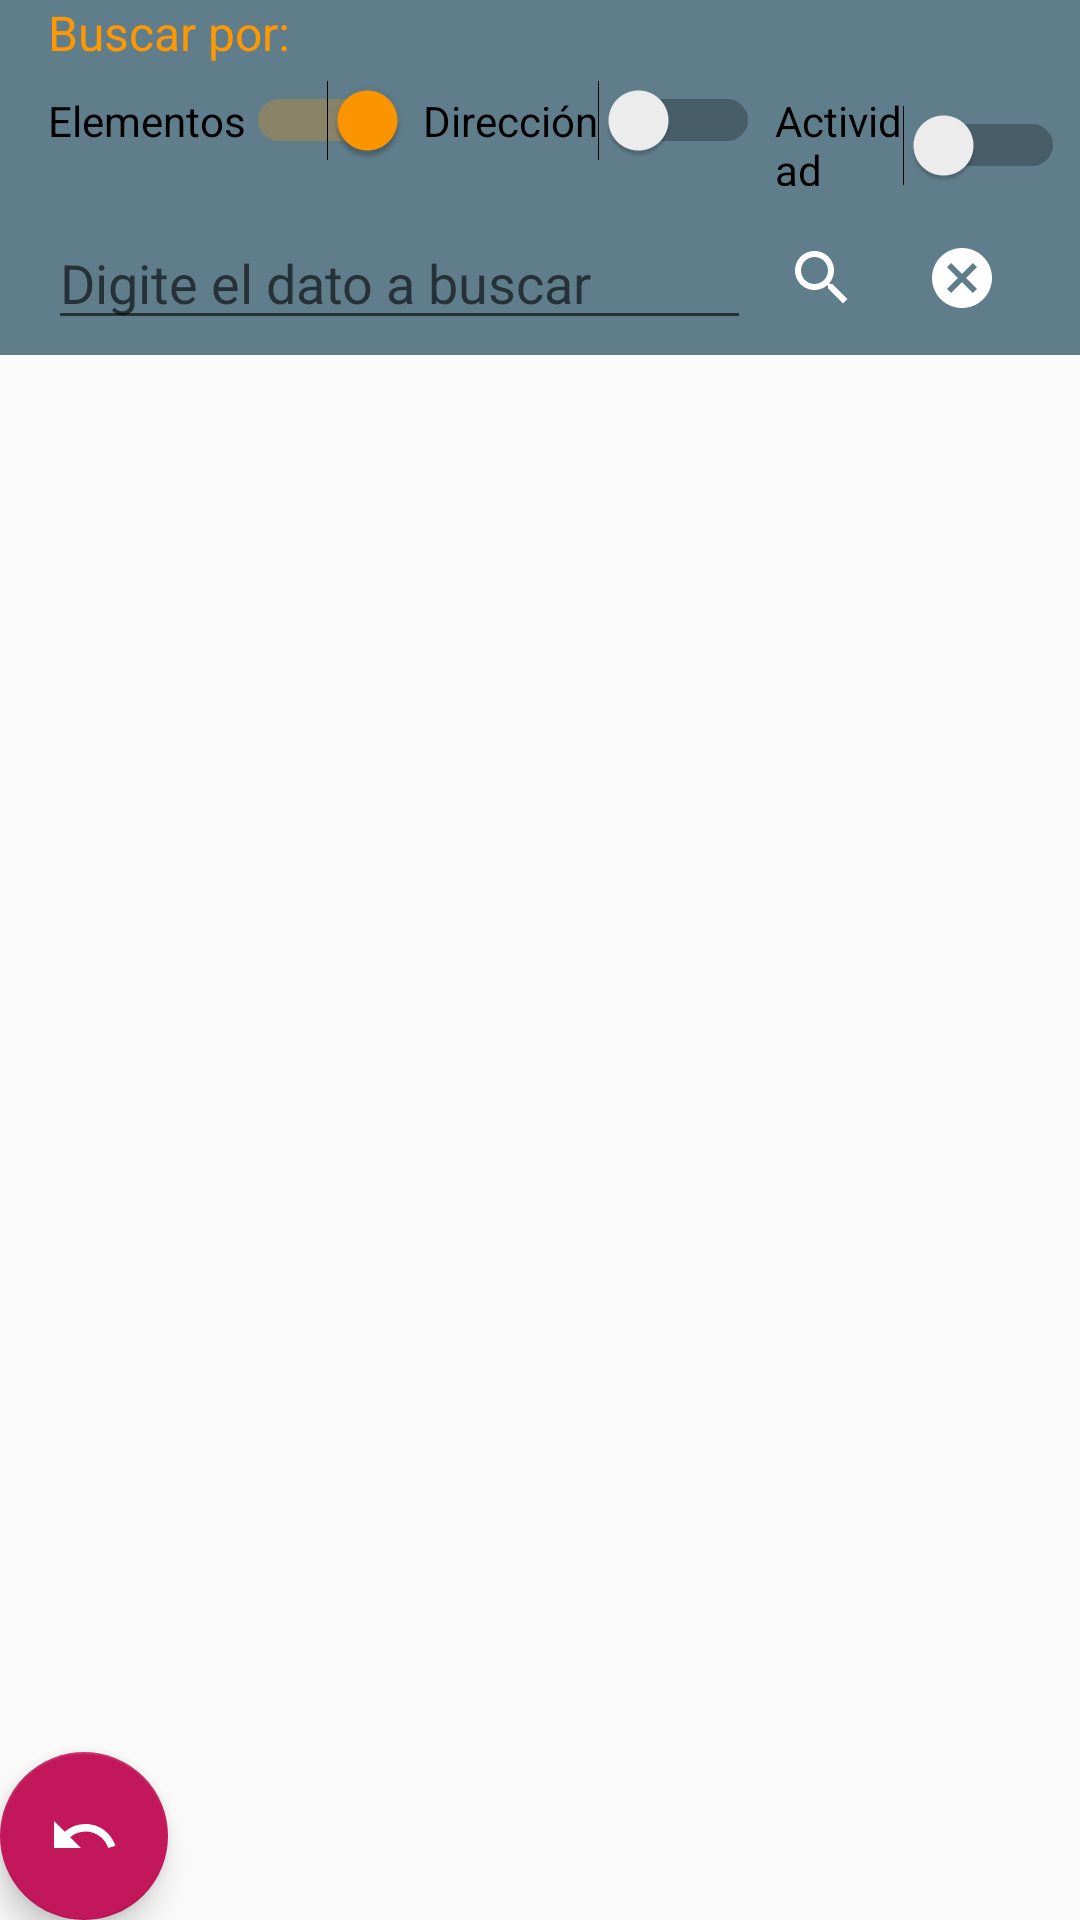

Icons on this 1080px×1920px Android screen, each with its box as (x1, y1, x2, y2):
Buscar Elemento: (795, 251, 847, 303)
cancel: (932, 248, 992, 308)
undo: (0, 1752, 168, 1920)
